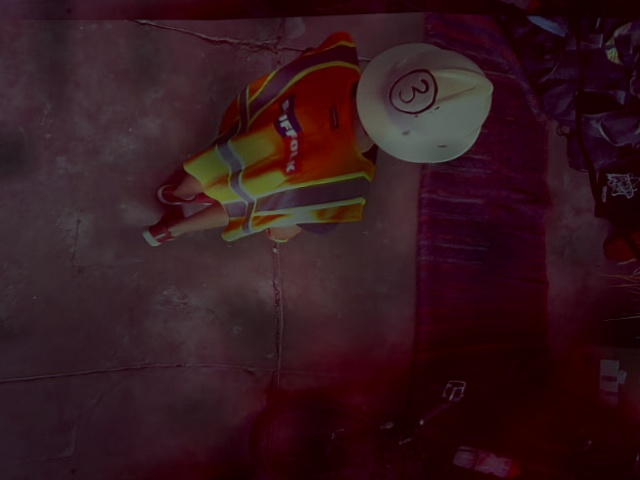three: (389, 70, 436, 114)
